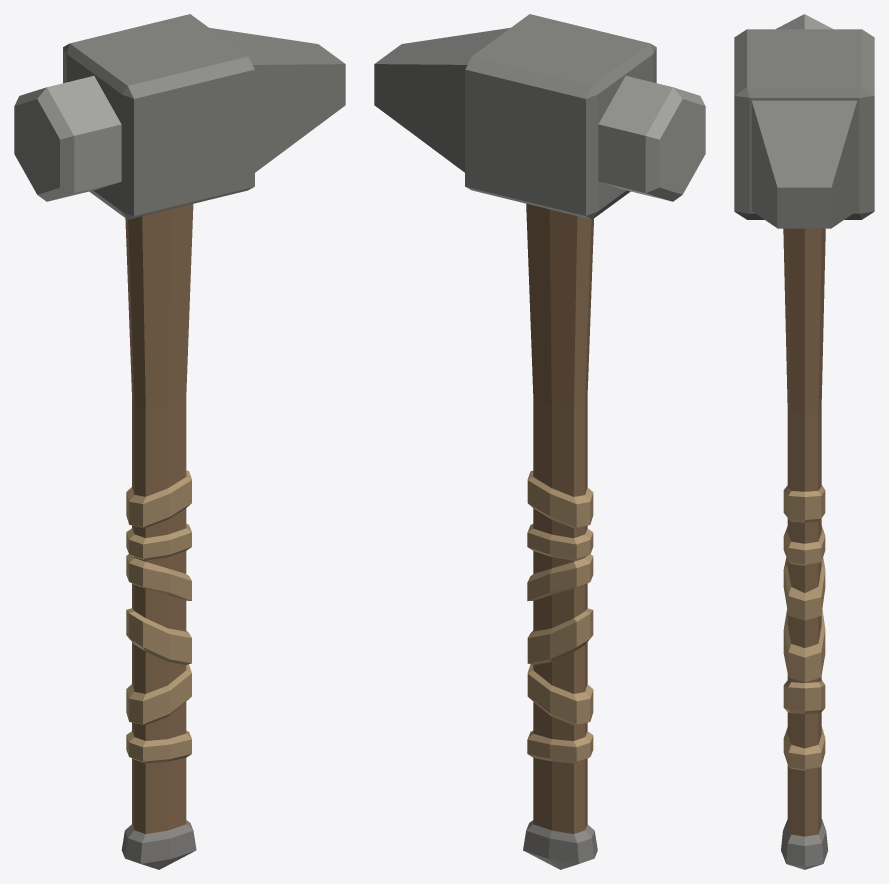
Rendered from SM_pwe_gauls_hammer_01.fbx.
The picture shows the model from 3 angles, left to right: view 1: azimuth 30°, elevation 25°; view 2: azimuth 150°, elevation 25°; view 3: azimuth 270°, elevation 25°; orthographic projection.
Parts seen in each view (by area): view 1: SM_pwe_gauls_hammer_01; view 2: SM_pwe_gauls_hammer_01; view 3: SM_pwe_gauls_hammer_01.
Part boxes in pixels (x1,y1,x2,y2): SM_pwe_gauls_hammer_01: [14, 14, 345, 869]; SM_pwe_gauls_hammer_01: [374, 14, 705, 869]; SM_pwe_gauls_hammer_01: [734, 14, 874, 869].
Size of the model in its own units: 28.47 by 75.69 by 11.87.
